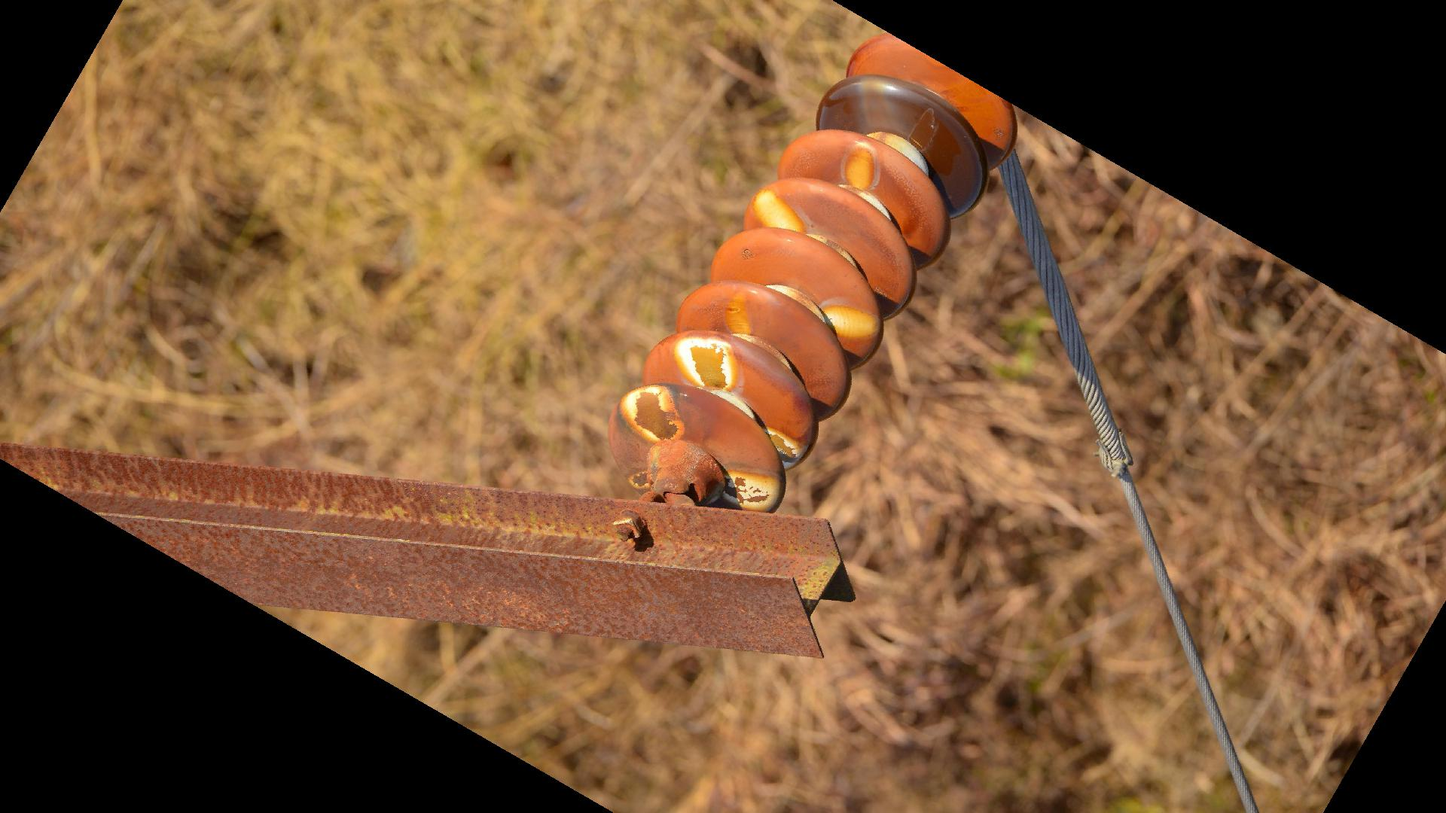insulator: (604, 29, 1028, 518)
insulator_flashover: (671, 330, 740, 394), (618, 382, 685, 443), (749, 187, 810, 238), (817, 299, 884, 342), (720, 468, 782, 513), (859, 75, 901, 136), (763, 424, 809, 471), (840, 141, 880, 195), (723, 288, 756, 339), (906, 106, 939, 152)
